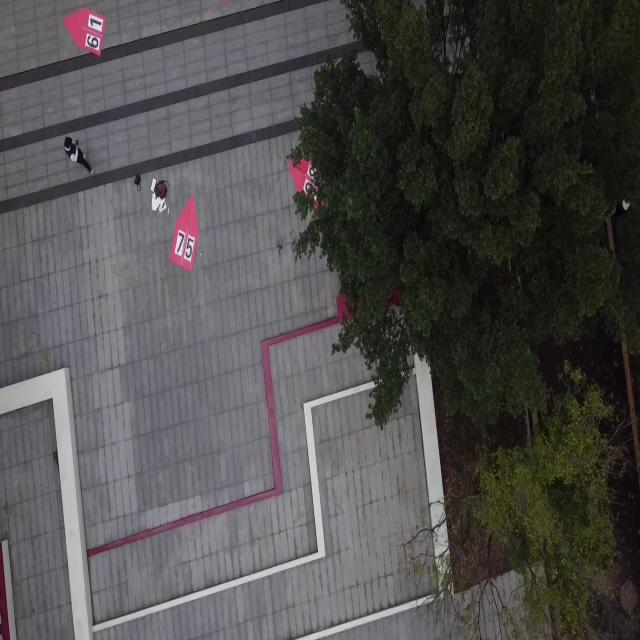-sign-: (169, 194, 199, 272), (287, 155, 328, 211), (64, 7, 108, 58)
